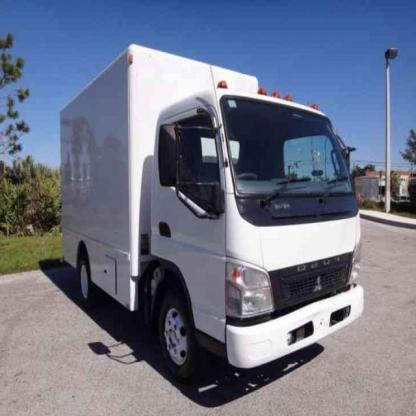truck: (62, 43, 366, 380)
